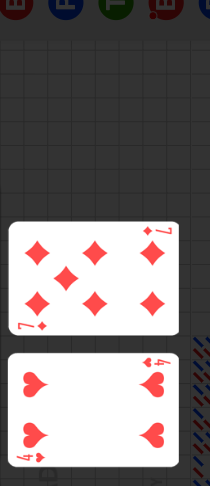4H: (16, 451, 48, 464)
7D: (142, 225, 174, 237)
